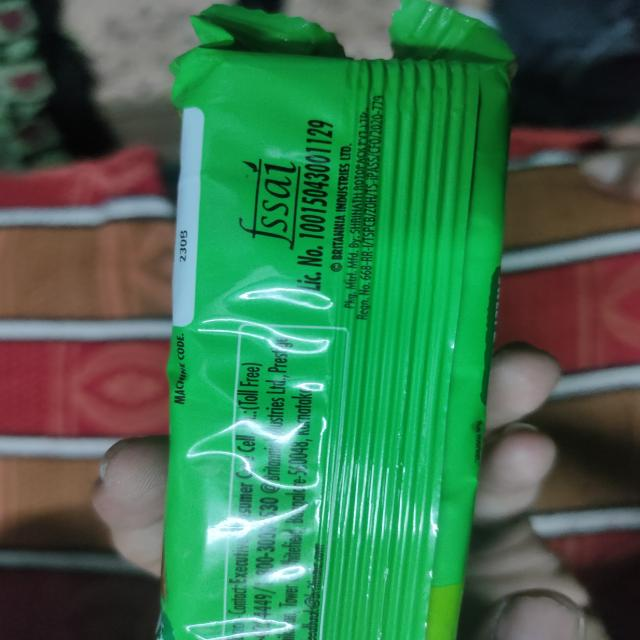biscuit: (150, 0, 506, 640)
